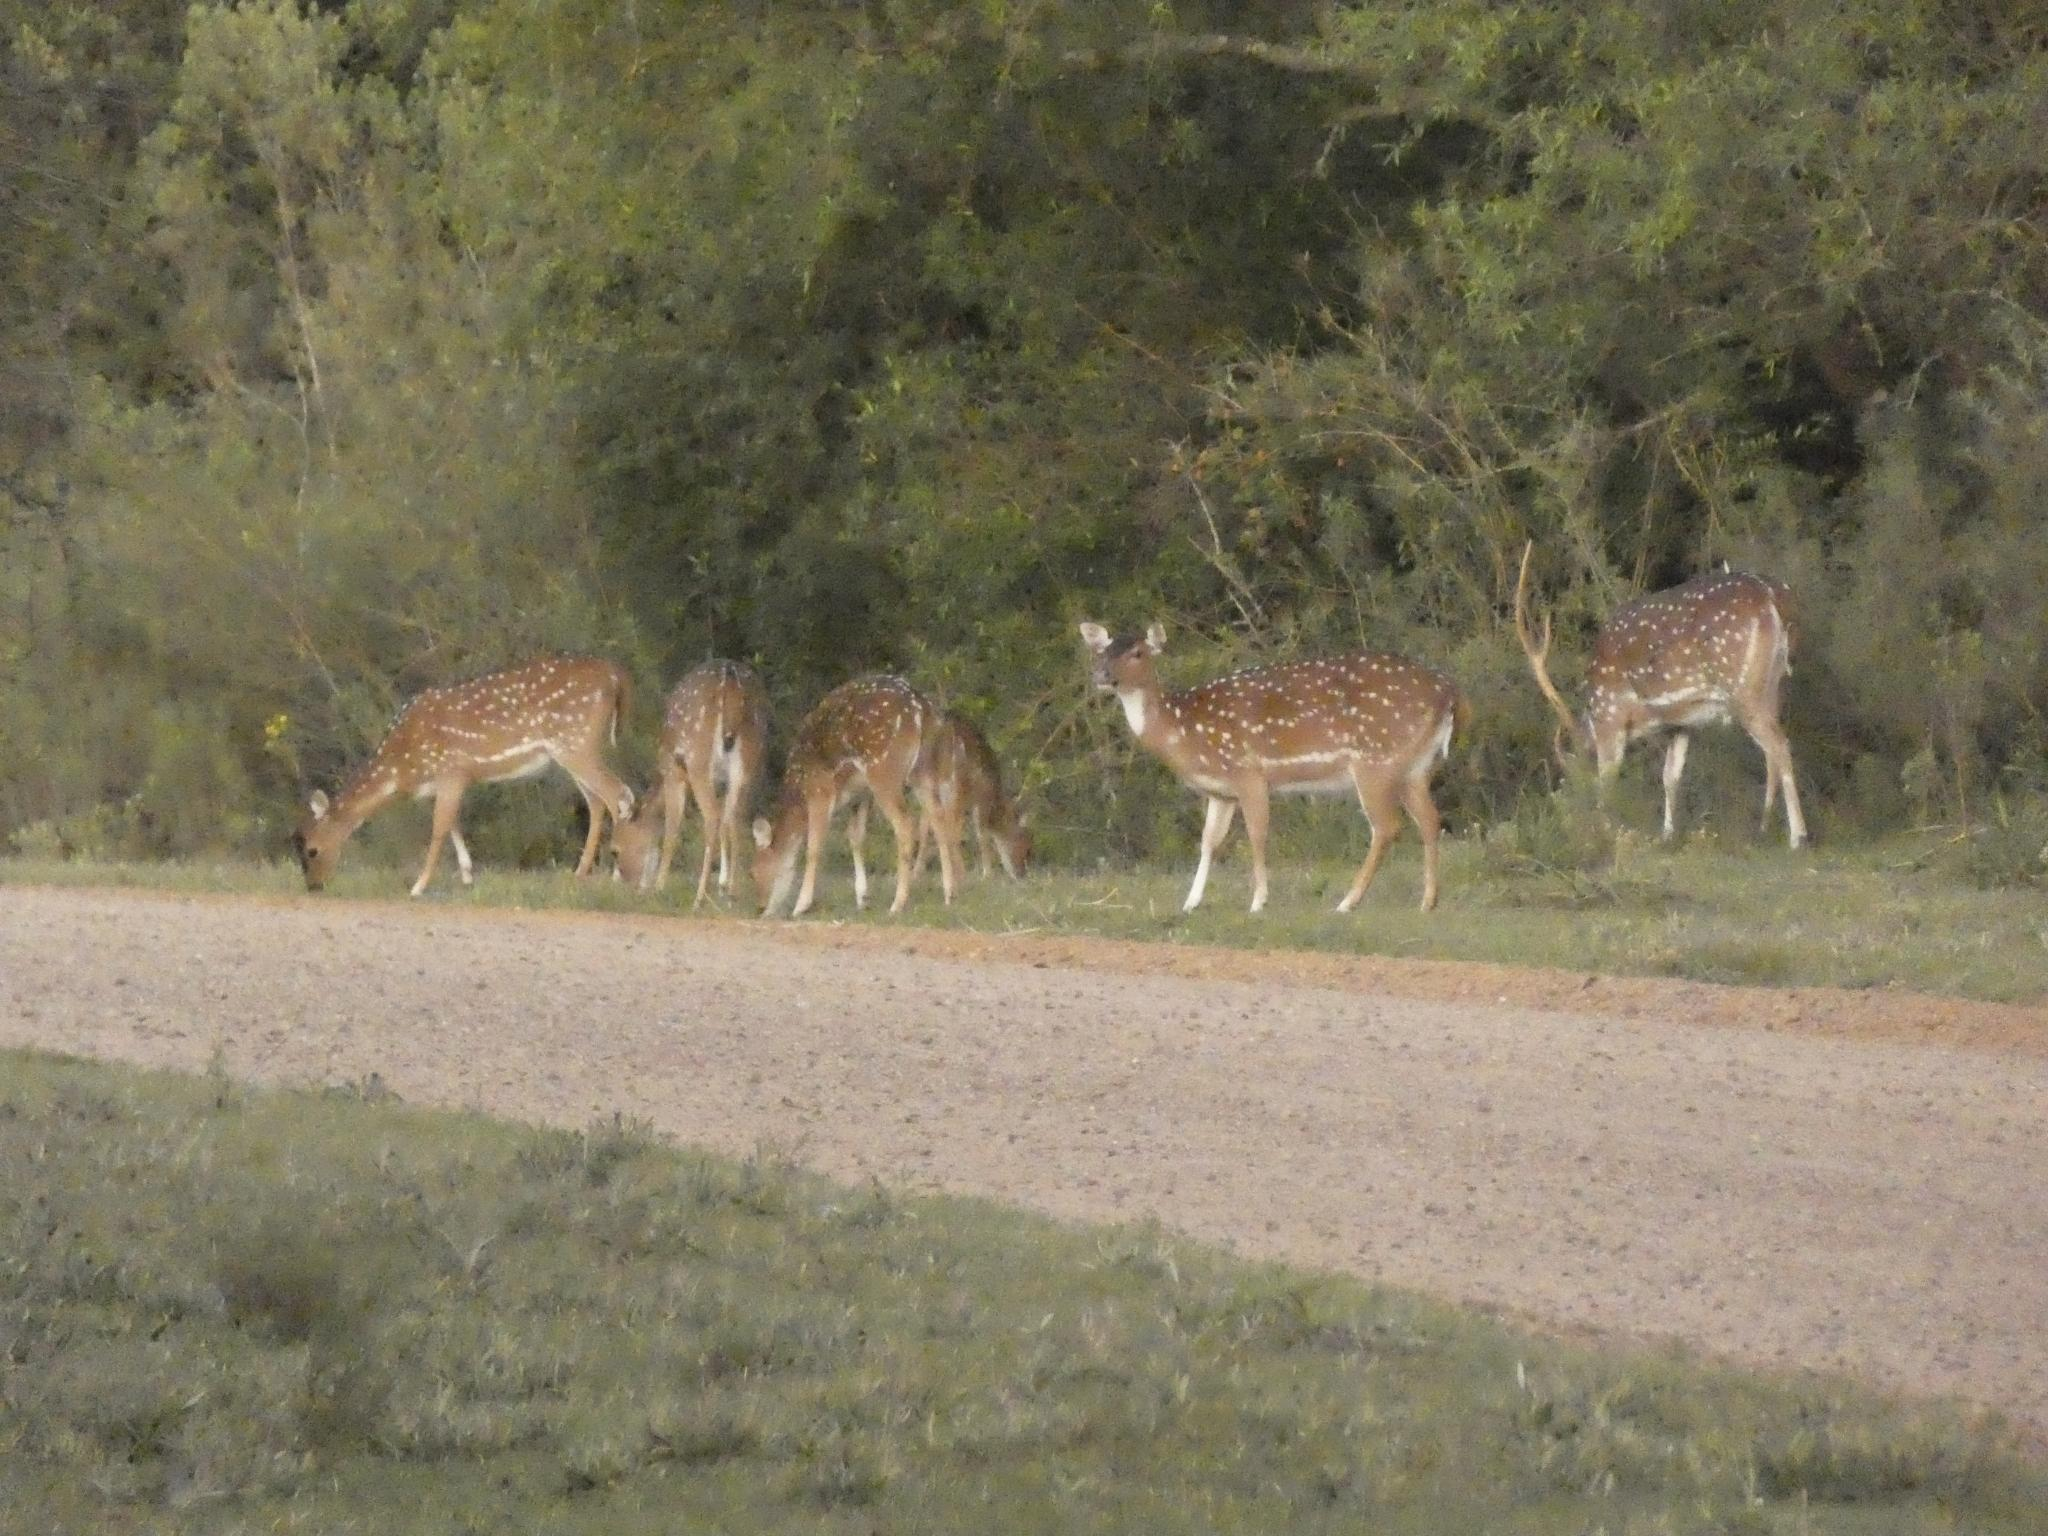Deer: (1077, 623, 1469, 913), (1513, 542, 1808, 849), (298, 653, 635, 897), (753, 673, 955, 916), (613, 658, 768, 905), (913, 715, 1027, 904)
